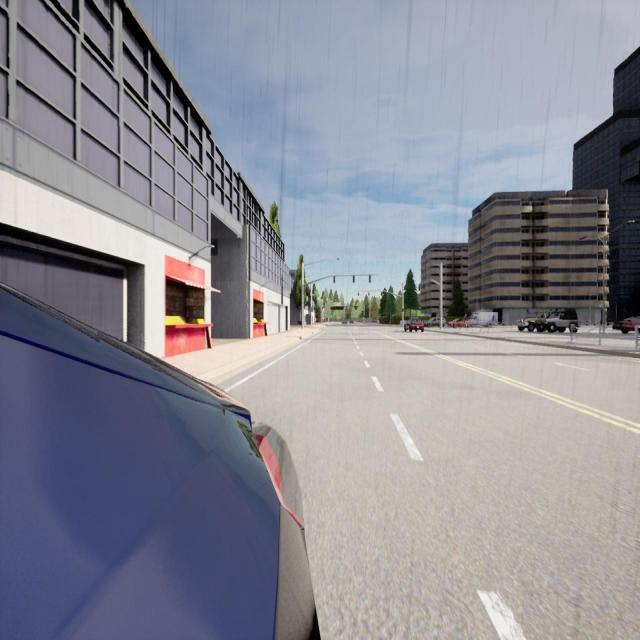Vehicle: (0, 285, 318, 640), (545, 308, 578, 333), (517, 312, 545, 332), (612, 315, 640, 334), (469, 309, 498, 327), (404, 316, 424, 333), (424, 317, 446, 328), (448, 318, 472, 328), (349, 318, 354, 324), (342, 319, 347, 324)
traffic_light: (352, 275, 354, 283), (334, 276, 336, 283), (369, 275, 371, 282), (428, 280, 430, 286), (368, 291, 370, 295), (422, 284, 424, 288), (402, 308, 404, 311), (419, 285, 420, 291), (358, 291, 359, 296), (381, 292, 382, 296)
